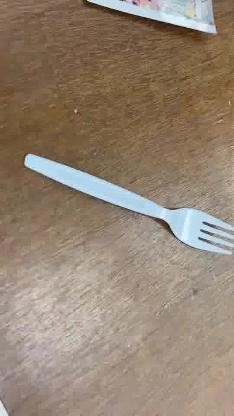Others: (23, 153, 234, 255)
